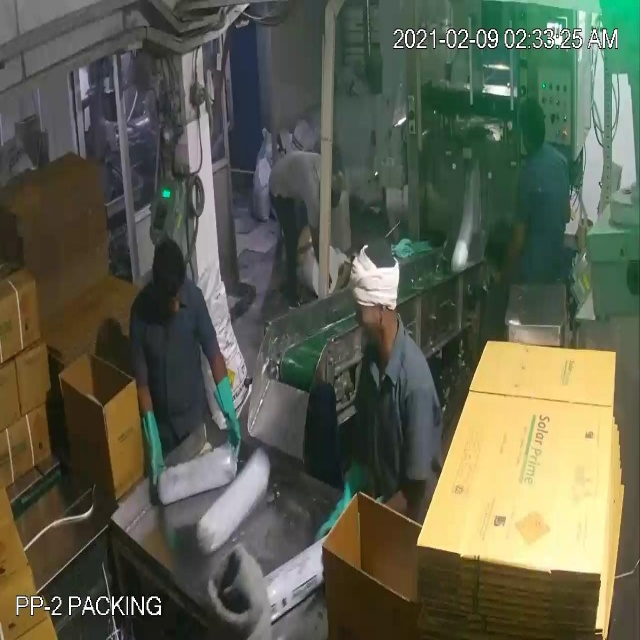Guantes: (202, 369, 253, 480), (133, 393, 177, 503)
